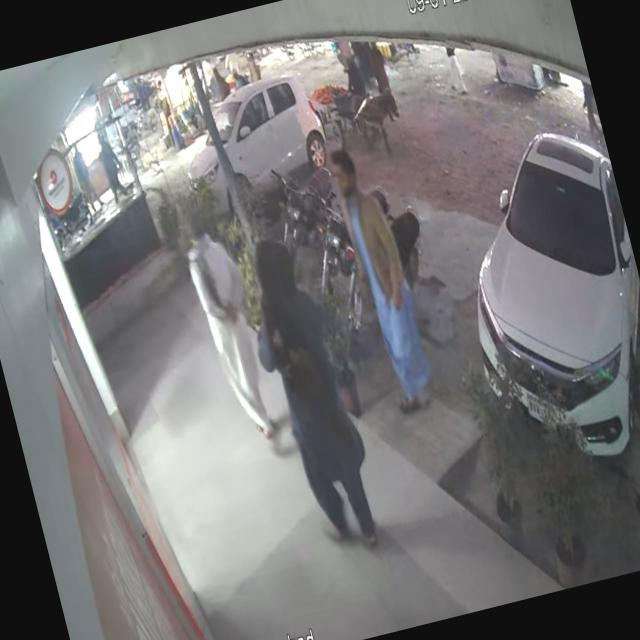Car: (418, 73, 640, 493), (145, 54, 338, 214)
Motorcycle: (318, 218, 456, 356), (289, 176, 413, 302), (266, 153, 354, 260)
